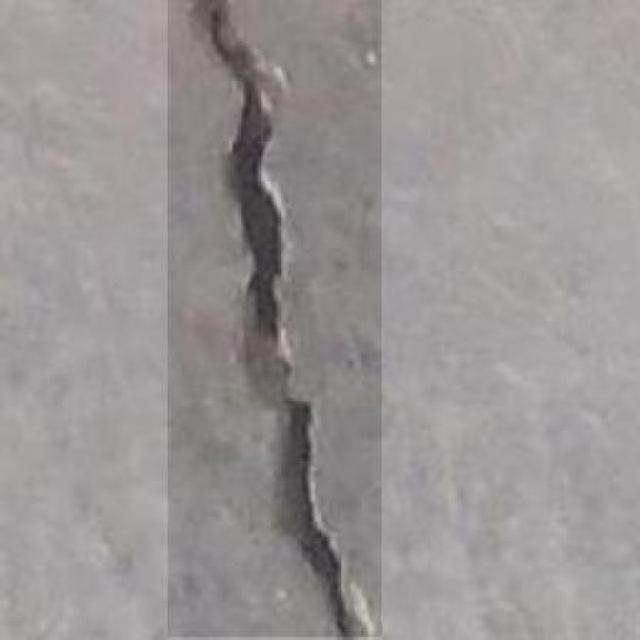Crack: (154, 0, 359, 640)
